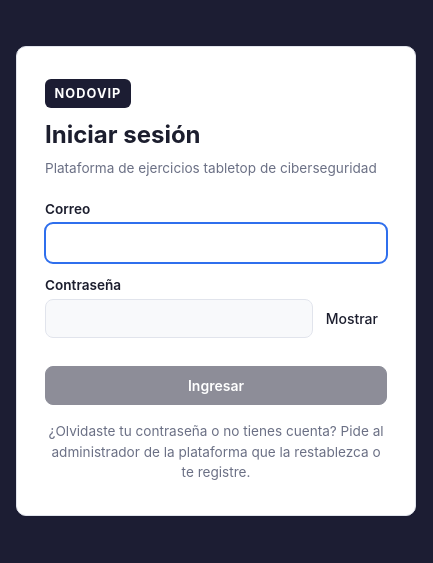
Scenario: LoginPage › muestra el error del backend y borra la contraseña
The width and height of the screenshot is (433, 563).
In the field labelled "Correo": (216, 243) x1=45 y1=223 x2=387 y2=262, type "ana@example.com"
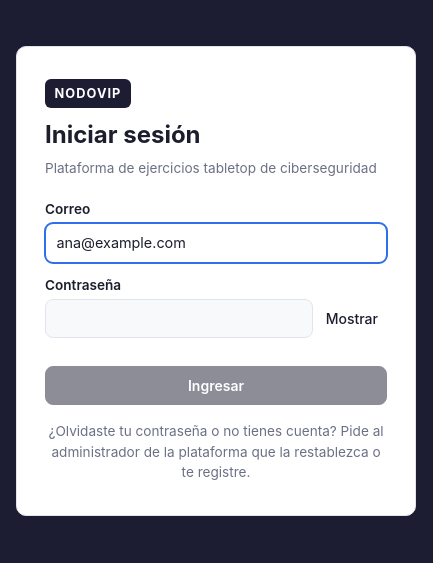
In the password field labelled "Contraseña": (179, 319) x1=45 y1=299 x2=313 y2=338, type "incorrecta"
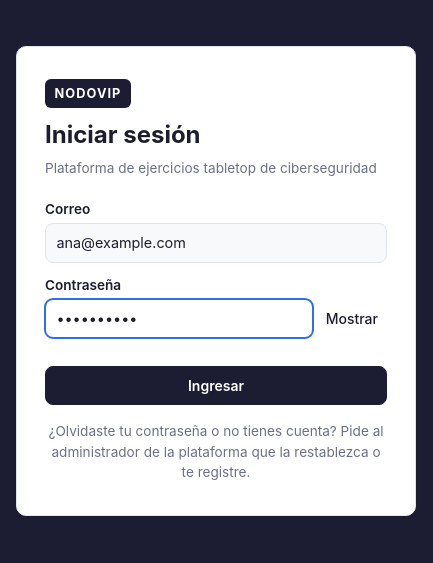
Click the button "Ingresar": (216, 386) x1=45 y1=366 x2=387 y2=406
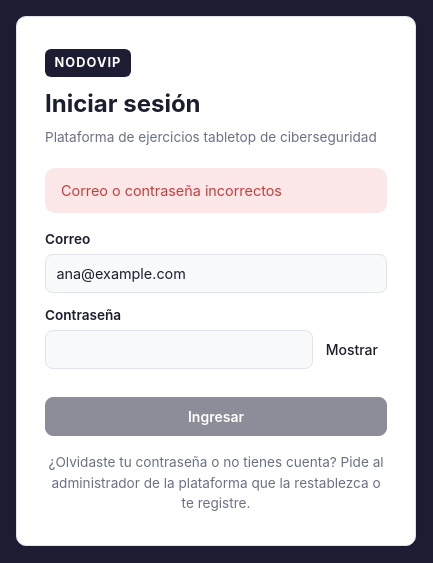
Result: the message reads "Correo o contraseña incorrectos" at x1=61 y1=182 x2=282 y2=199
Result: the password field labelled "Contraseña" is empty at x1=45 y1=330 x2=313 y2=369
